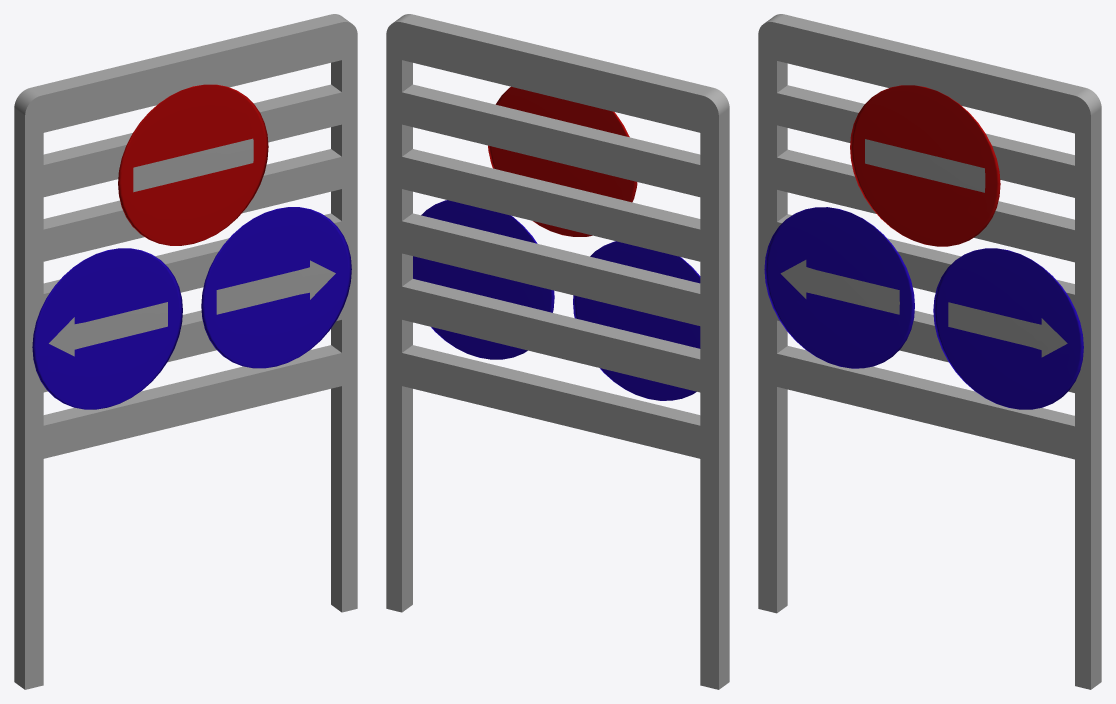
The model's file is conmeno.fbx.
The picture shows the model from 3 angles, left to right: view 1: azimuth 30°, elevation 25°; view 2: azimuth 150°, elevation 25°; view 3: azimuth 330°, elevation 25°; orthographic projection.
Visible parts, largest first — view 1: pCube2; view 2: pCube2; view 3: pCube2.
Part boxes in pixels (x1,y1,x2,y2): pCube2: [14, 14, 357, 689]; pCube2: [386, 14, 729, 689]; pCube2: [758, 14, 1101, 689].
Bounding box in the file's own units: 2.17 × 3.69 × 0.1315.
